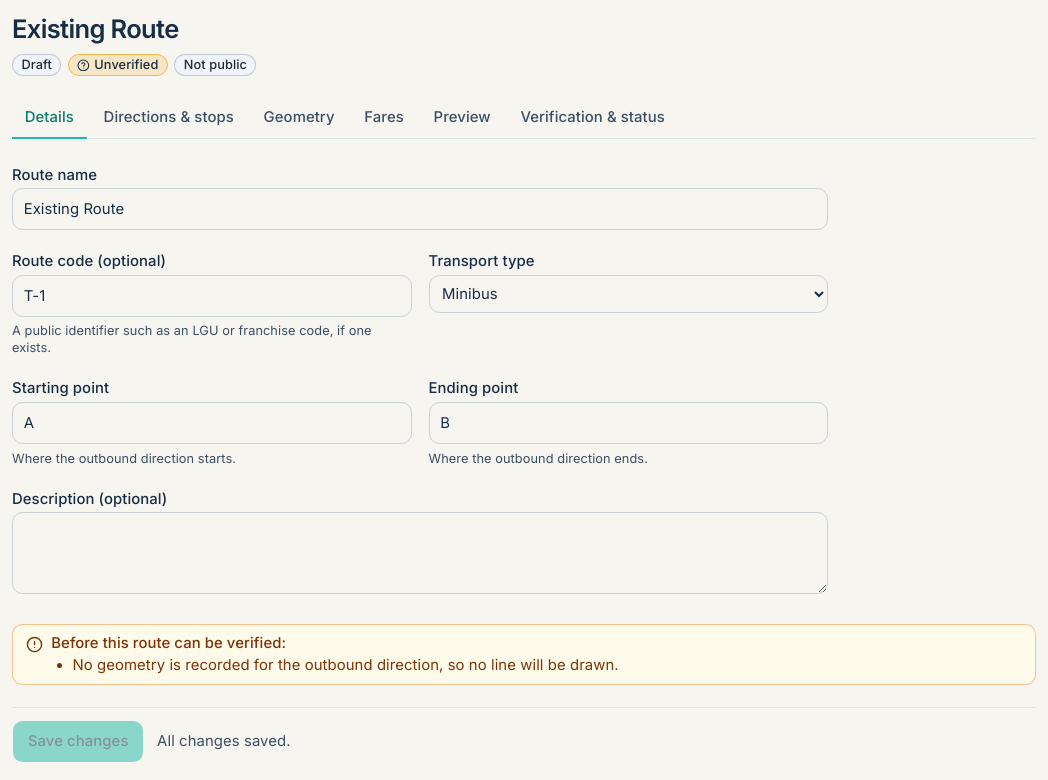
Test: directions › treats a route as one-way until an inbound direction is added, with separate stop lists
Click the tab "Directions & stops" at [169, 118], box top-left (91, 97), bottom-right (247, 140)
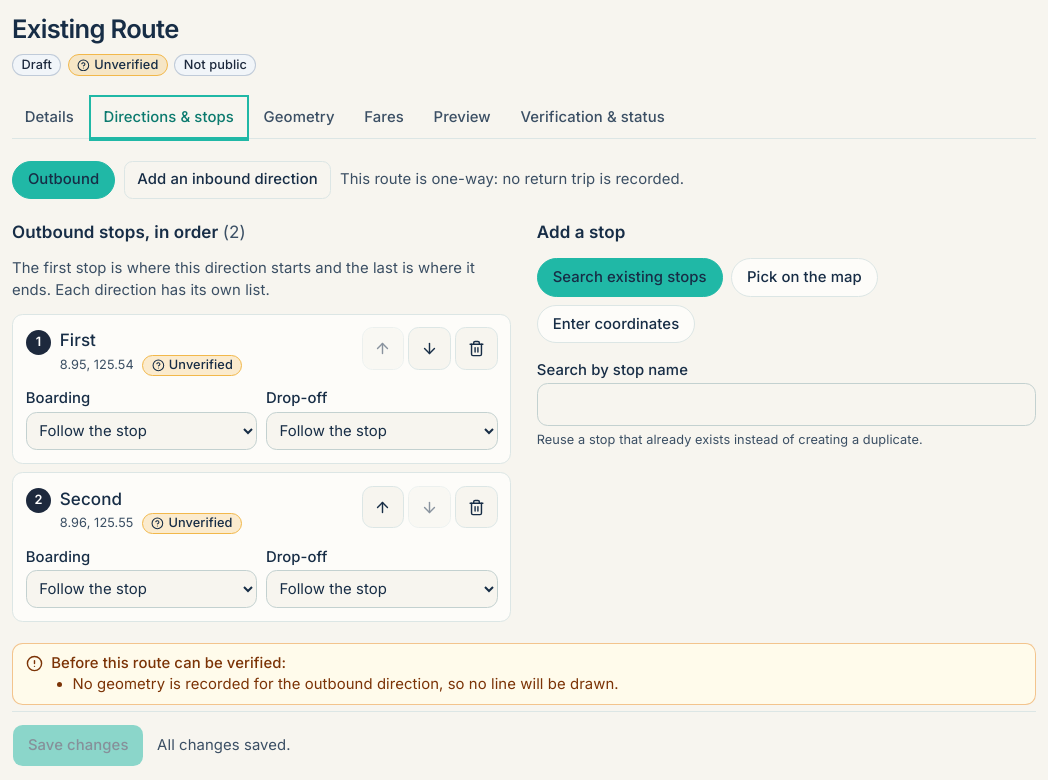
Now the text "This route is one-way: no return trip is recorded." is shown, box top-left (340, 169), bottom-right (684, 190)
Click the button "Add an inbound direction" at [228, 180], box top-left (124, 161), bottom-right (332, 199)
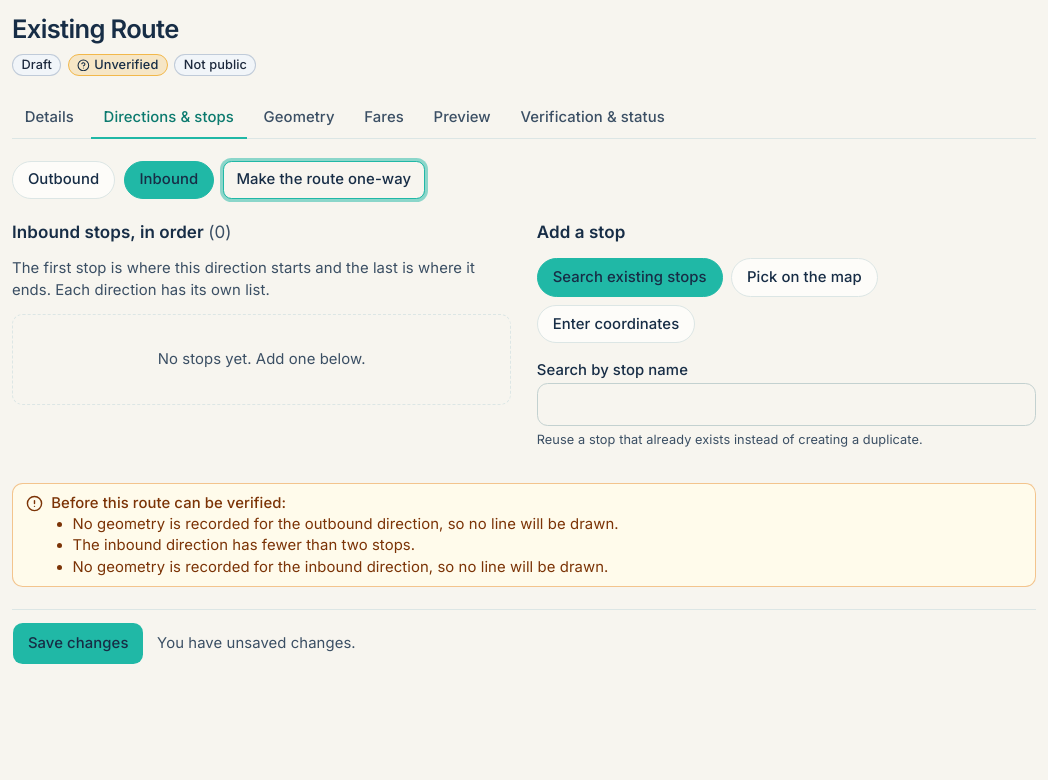
Now the text "No stops yet. Add one below." is shown, box top-left (12, 314), bottom-right (511, 405)
Now the text "You have unsaved changes." is shown, box top-left (157, 633), bottom-right (356, 654)
Click the button "Outbound" at [64, 180], box top-left (12, 161), bottom-right (115, 199)
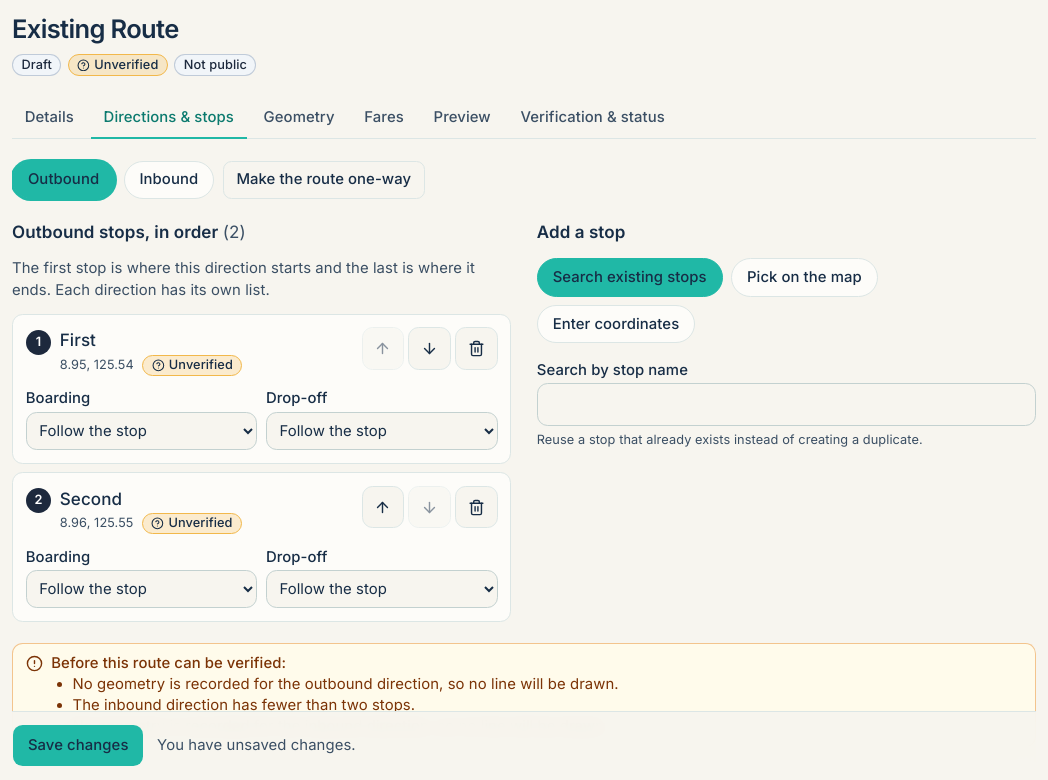
Now the text "First" is shown, box top-left (59, 330), bottom-right (114, 350)
